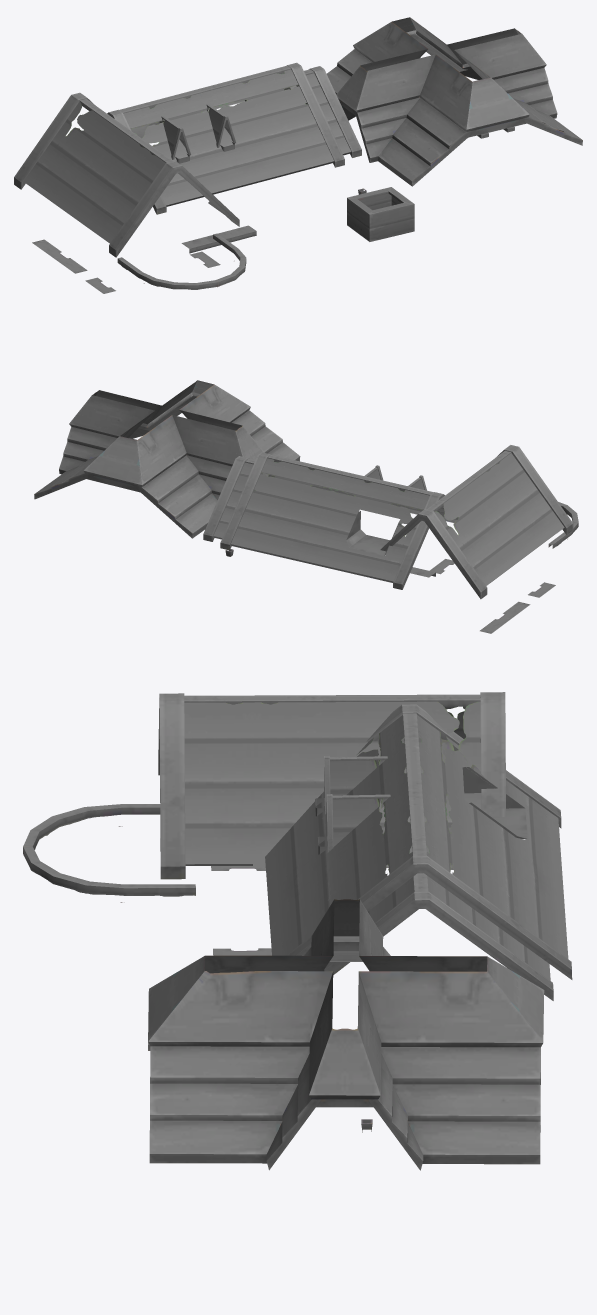
File: pref_sm_garden_house_vertexcolor06_lv2.fbx
3 renders of one model, top to bottom at view 1: azimuth 30°, elevation 25°; view 2: azimuth 150°, elevation 25°; view 3: azimuth 270°, elevation 25°, orthographic. The views are drawn at different scales.
Visible parts, largest first — view 1: pref_sm_garden_house_vertexcolor06_lv2; view 2: pref_sm_garden_house_vertexcolor06_lv2; view 3: pref_sm_garden_house_vertexcolor06_lv2.
Boxes of the visible parts, x1=… form: pref_sm_garden_house_vertexcolor06_lv2: x1=14, y1=17, x2=582, y2=293; pref_sm_garden_house_vertexcolor06_lv2: x1=34, y1=380, x2=578, y2=633; pref_sm_garden_house_vertexcolor06_lv2: x1=23, y1=692, x2=572, y2=1170.
Bounding box in the file's own units: 19.68 × 6.27 × 11.73.
